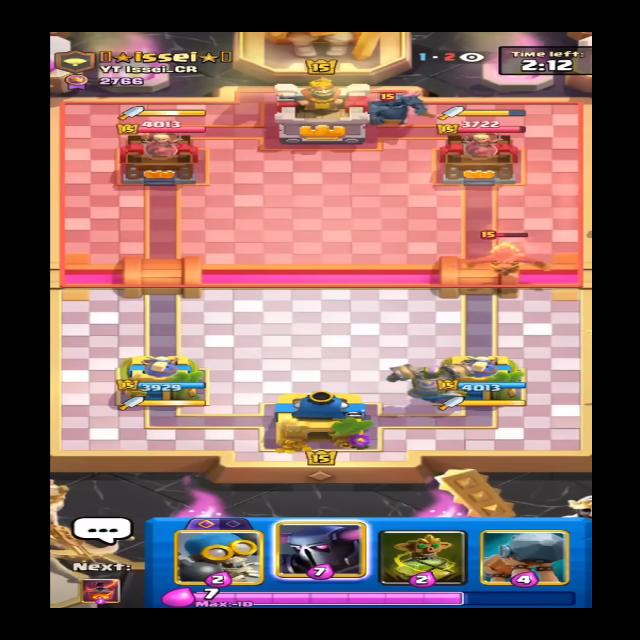pekka: (358, 87, 433, 129)
phoenix: (448, 228, 568, 274)
